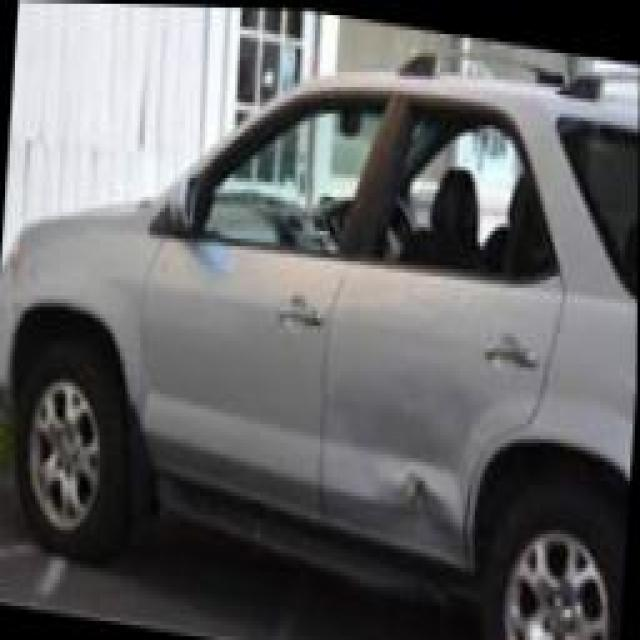Door: (295, 250, 562, 575)
